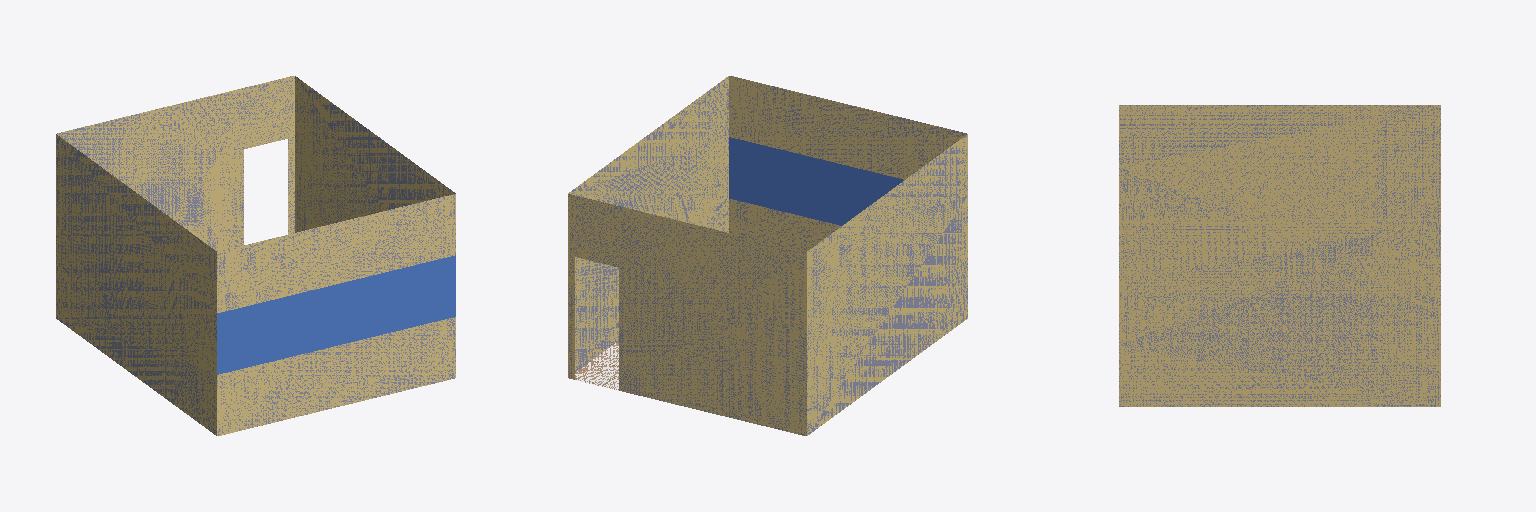
The picture shows the model from 3 angles: view 1: azimuth 30°, elevation 25°; view 2: azimuth 150°, elevation 25°; view 3: azimuth 270°, elevation 25°; orthographic projection.
Visible parts, largest first — view 1: Mesh1 DES012 Model; view 2: Mesh1 DES012 Model; view 3: Mesh1 DES012 Model.
Boxes of the visible parts, x1=… form: Mesh1 DES012 Model: x1=56, y1=76, x2=455, y2=435; Mesh1 DES012 Model: x1=568, y1=76, x2=967, y2=435; Mesh1 DES012 Model: x1=1119, y1=105, x2=1440, y2=406.
Bounding box in the file's own units: 4.08 × 3.02 × 4.78.
5 materials, 1 textured.